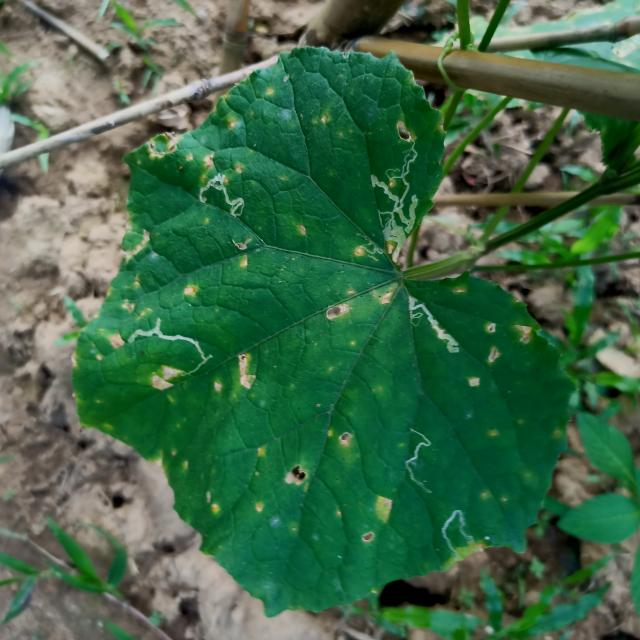disease_cucumber: (246, 440, 309, 538), (466, 319, 535, 394), (115, 229, 162, 321), (320, 278, 396, 325), (148, 130, 218, 172), (354, 492, 394, 552), (75, 325, 122, 367), (232, 350, 260, 396), (150, 362, 184, 396), (229, 236, 256, 272), (326, 426, 354, 448), (204, 489, 223, 516), (391, 122, 415, 142), (306, 113, 334, 128), (182, 280, 200, 302), (261, 86, 276, 100), (350, 246, 366, 259), (295, 223, 308, 238), (478, 488, 490, 500), (487, 428, 498, 438)
